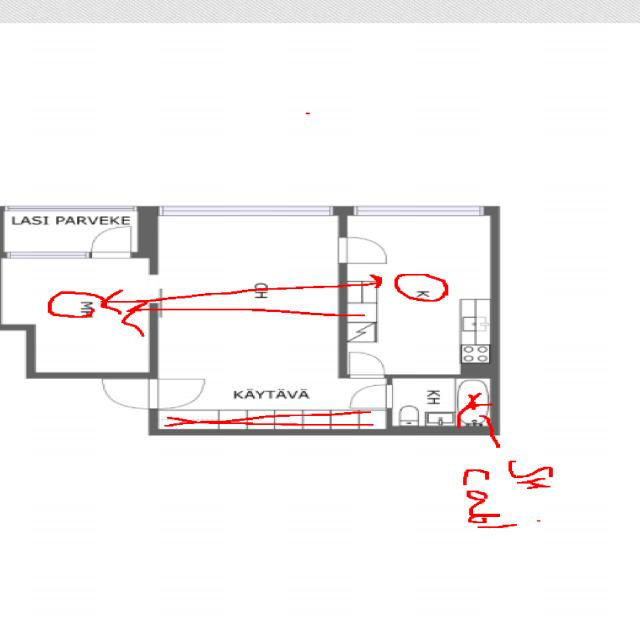door: (102, 379, 158, 408), (148, 379, 203, 408), (90, 226, 130, 258), (338, 238, 386, 263), (348, 352, 384, 379), (352, 386, 392, 408)
